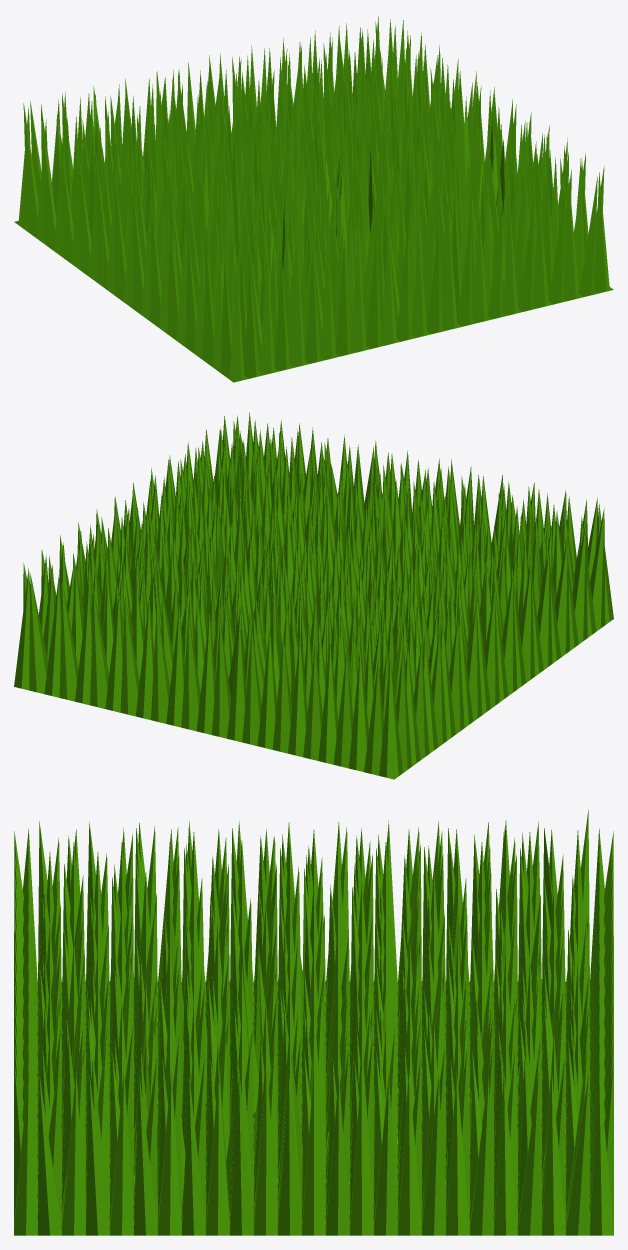
Rendered from травка5.fbx.
The picture shows the model from 3 angles, top to bottom: view 1: azimuth 30°, elevation 25°; view 2: azimuth 150°, elevation 25°; view 3: azimuth 270°, elevation 25°; orthographic projection. The views are drawn at different scales.
Parts seen in each view (by area): view 1: Plane.002; view 2: Plane.002; view 3: Plane.002.
Boxes of the visible parts, x1=… form: Plane.002: x1=14, y1=16, x2=613, y2=382; Plane.002: x1=14, y1=412, x2=613, y2=779; Plane.002: x1=14, y1=809, x2=613, y2=1235.
Bounding box in the file's own units: 100 × 35.93 × 100.
